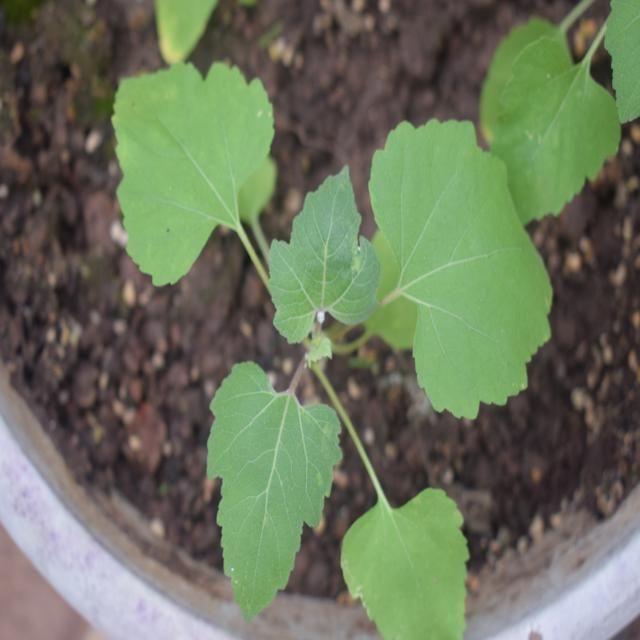cocklebur: (100, 59, 553, 599)
